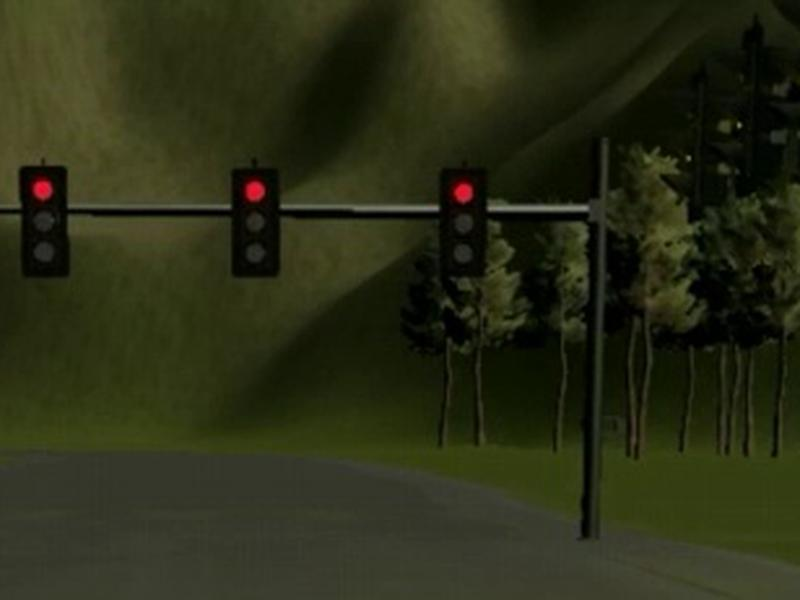Red: (17, 167, 70, 277), (230, 167, 280, 276), (441, 168, 487, 277)
